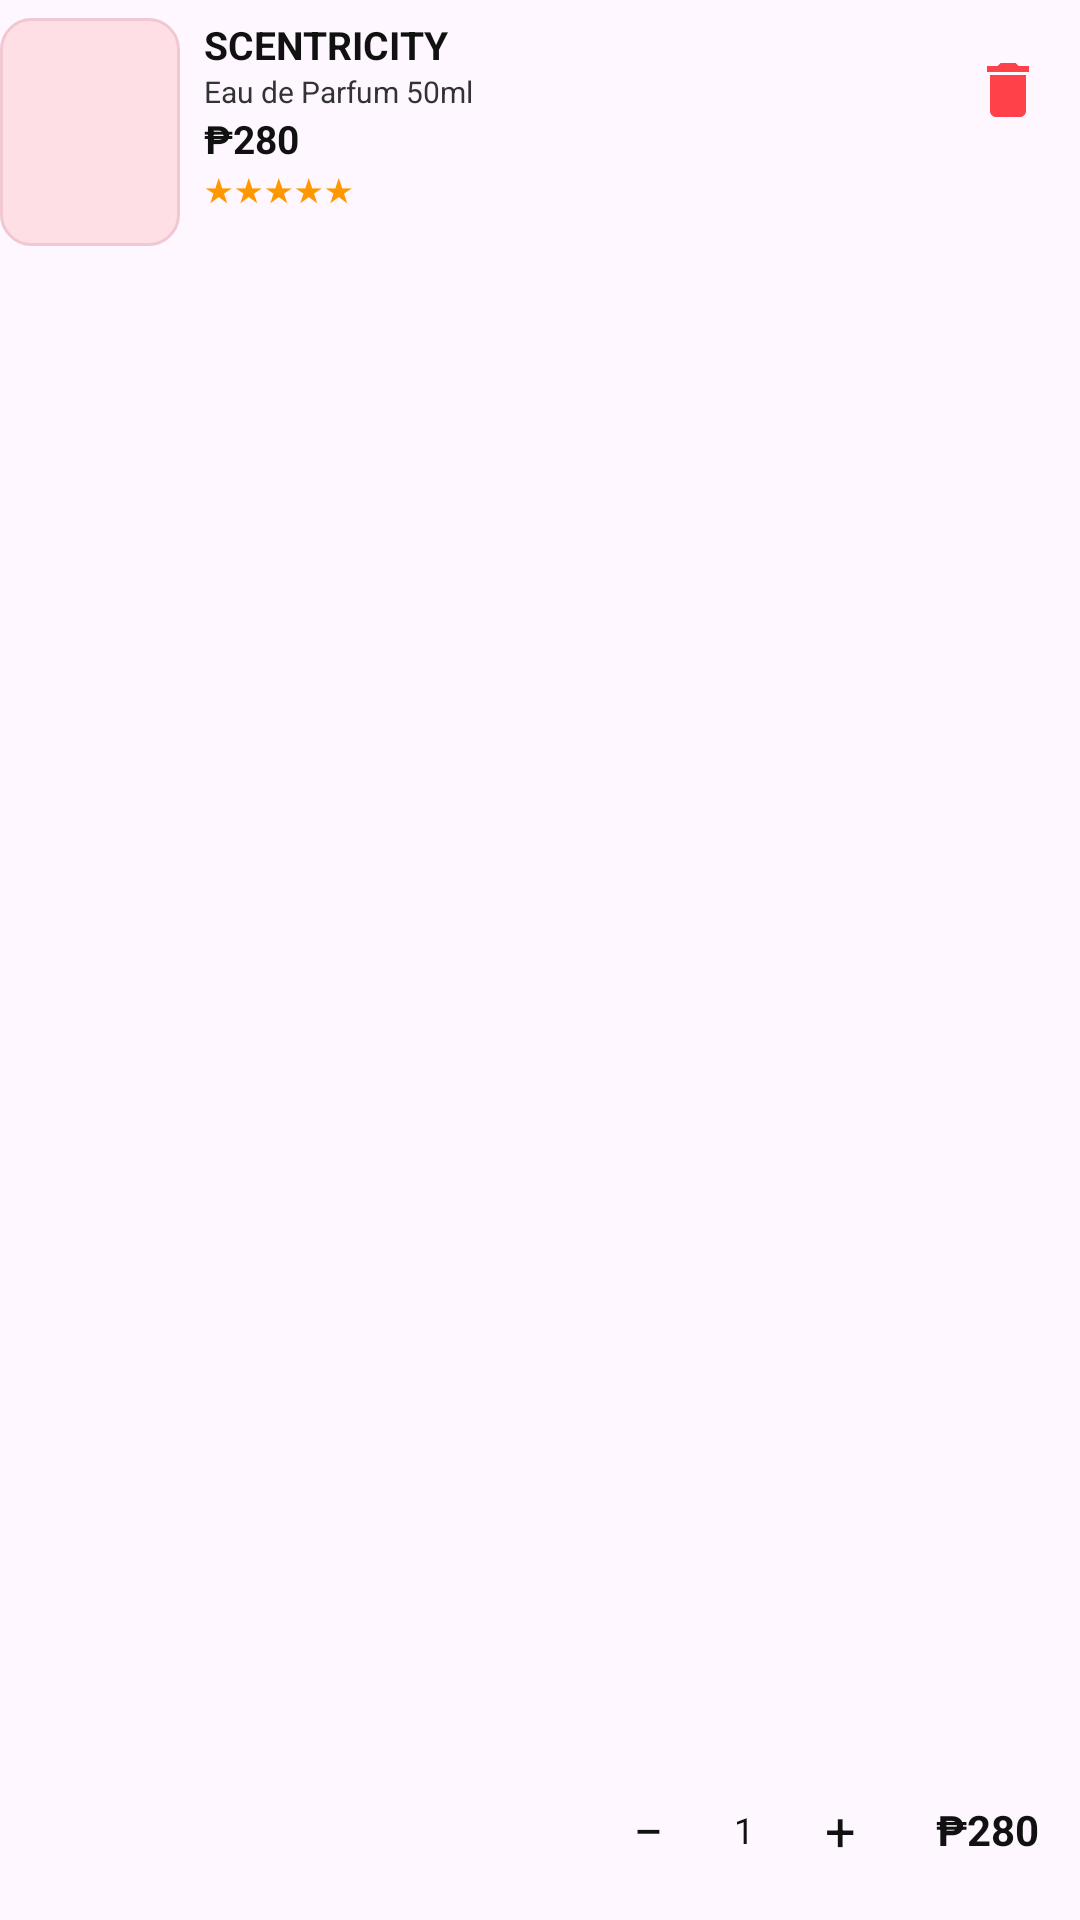

Screen size 1080 x 1920. Icon name, then its center in pixels as (x,y):
Remove product: (1008,90)
